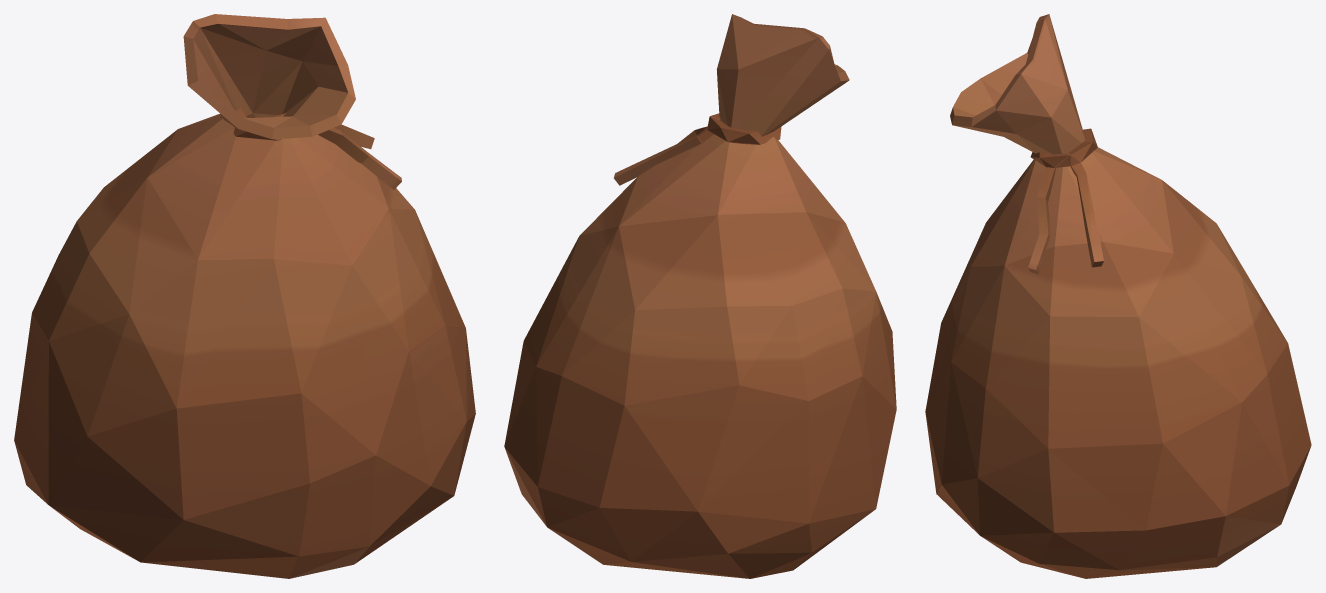
The model's file is SM_Sack_01.gltf.
3 renders of one model, left to right at view 1: azimuth 30°, elevation 25°; view 2: azimuth 150°, elevation 25°; view 3: azimuth 270°, elevation 25°, orthographic. The views are drawn at different scales.
Parts seen in each view (by area): view 1: SM_Sack_01; view 2: SM_Sack_01; view 3: SM_Sack_01.
Part boxes in pixels (bbox=[...]): SM_Sack_01: bbox=[14, 14, 475, 578]; SM_Sack_01: bbox=[504, 14, 896, 578]; SM_Sack_01: bbox=[925, 14, 1311, 578].
Size of the model in its own units: 0.5816 by 0.7778 by 0.5715.
